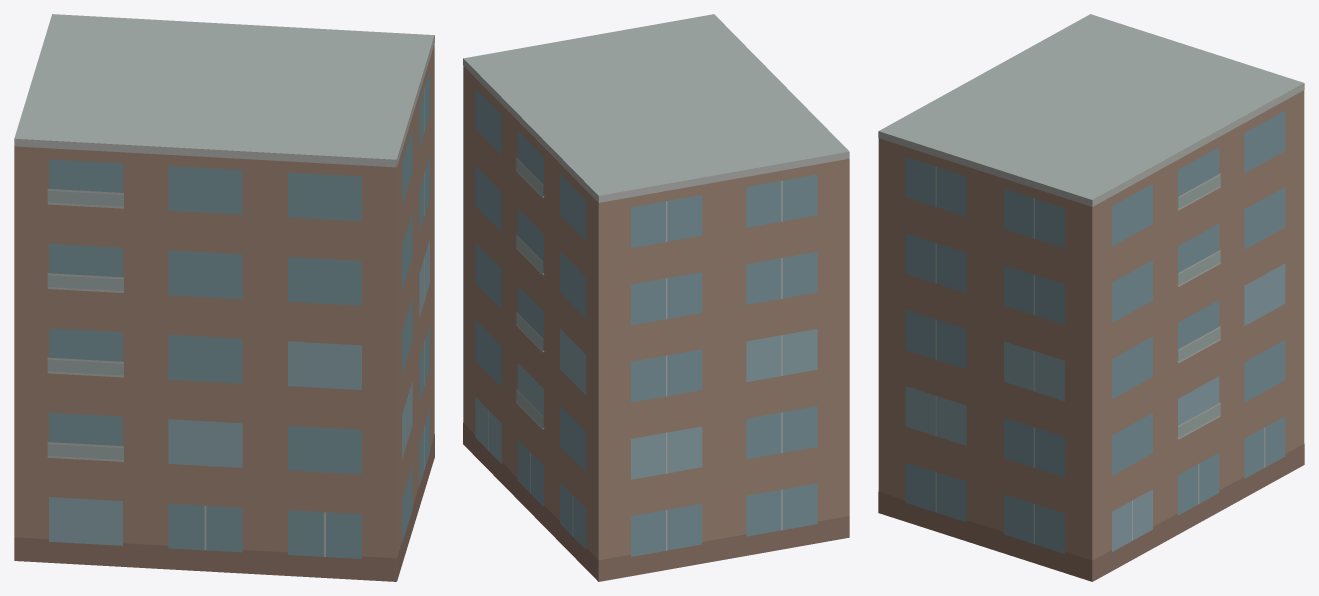
File: survey-upis-32945554.glb
3 views of the same model, side by side, from view 1: azimuth 30°, elevation 25°; view 2: azimuth 150°, elevation 25°; view 3: azimuth 270°, elevation 25° (orthographic). The views are drawn at different scales.
Visible parts, largest first — view 1: survey-upis-32945554.tmp; view 2: survey-upis-32945554.tmp; view 3: survey-upis-32945554.tmp.
Boxes of the visible parts, x1,y1,x2,y2 form: survey-upis-32945554.tmp: (14, 14, 434, 581); survey-upis-32945554.tmp: (463, 14, 849, 581); survey-upis-32945554.tmp: (878, 14, 1304, 581).
Bounding box in the file's own units: 14.07 × 13.45 × 13.61.
